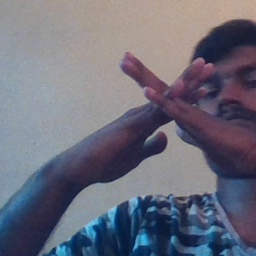W: (96, 43, 232, 178)
